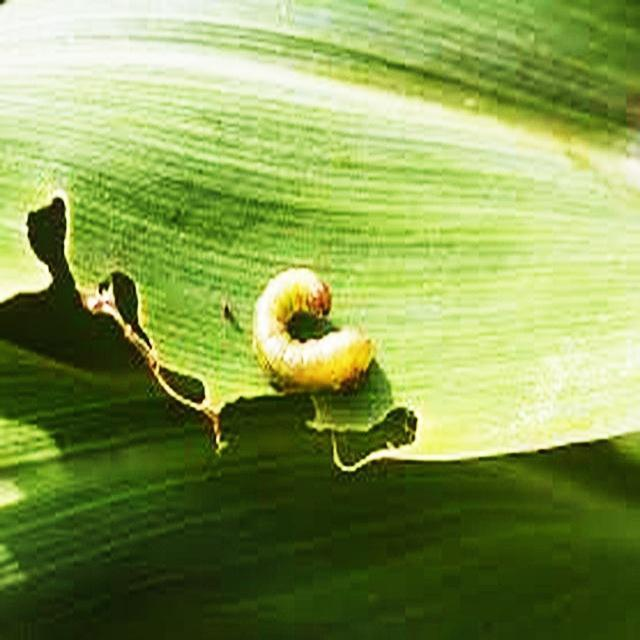gusano_cogollero: (248, 264, 376, 399)
